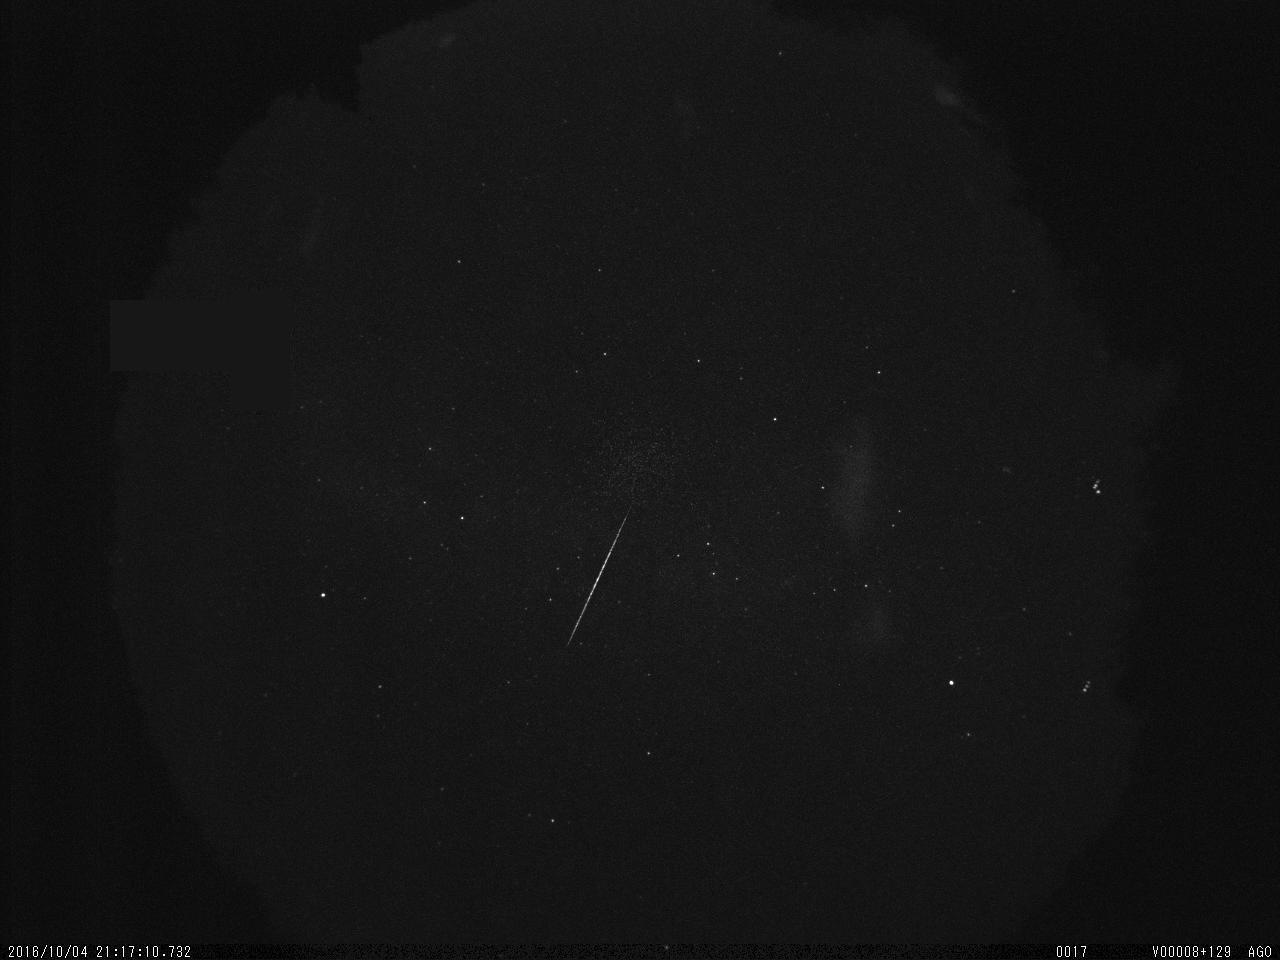meteor: (543, 498, 646, 665)
